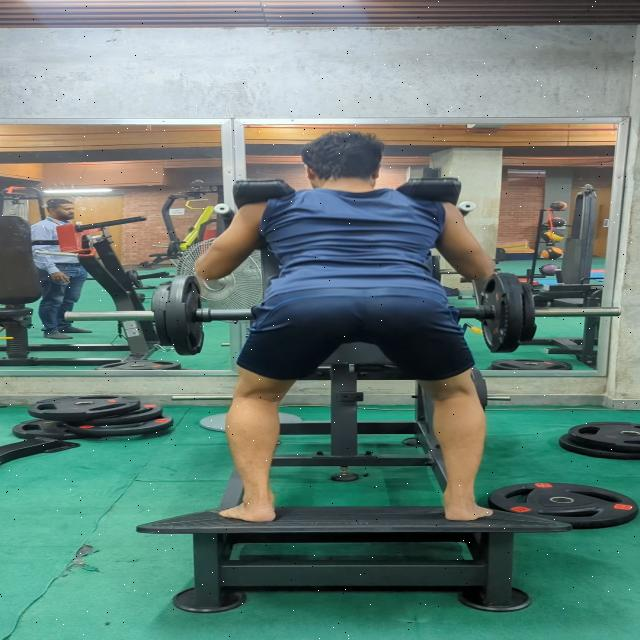Normal_SquatsWithBarbell: (192, 128, 522, 544)
